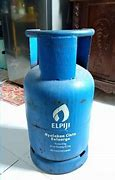blue_gas: (25, 28, 95, 175)
